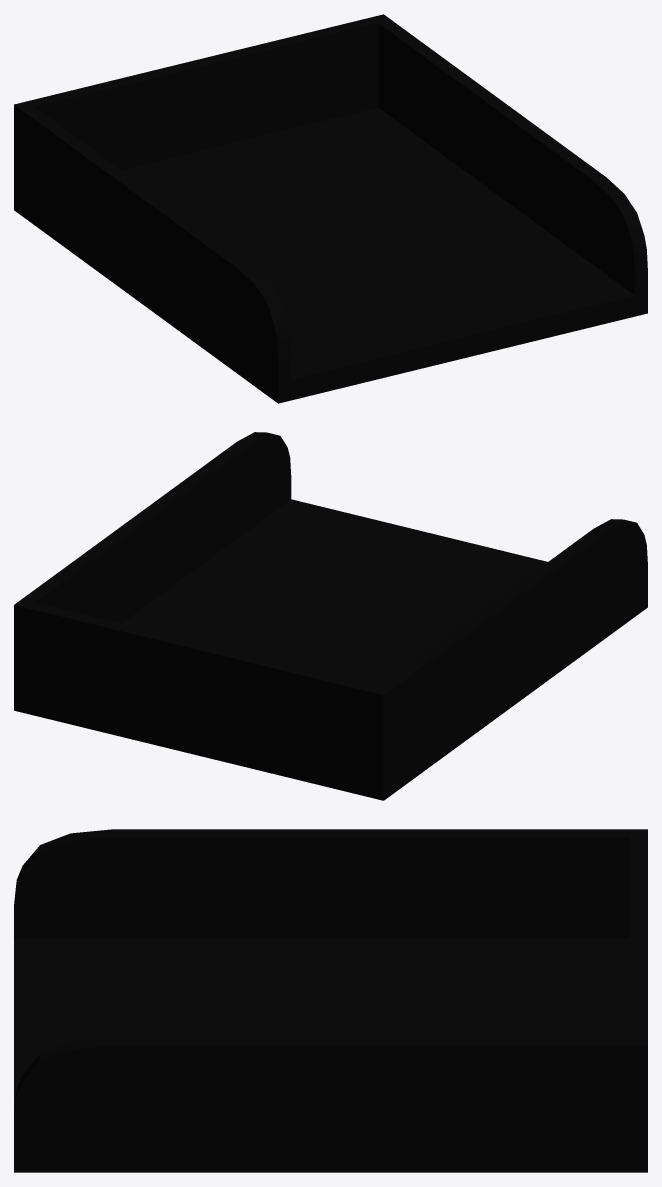
The model's file is Paper Tray_lod1.fbx.
3 views of the same model, one above another, from view 1: azimuth 30°, elevation 25°; view 2: azimuth 150°, elevation 25°; view 3: azimuth 270°, elevation 25° (orthographic). The views are drawn at different scales.
Parts seen in each view (by area): view 1: Paper_Tray; view 2: Paper_Tray; view 3: Paper_Tray.
Boxes of the visible parts, x1,y1,x2,y2 form: Paper_Tray: (14, 14, 647, 403); Paper_Tray: (14, 432, 647, 800); Paper_Tray: (14, 829, 647, 1172).
Bounding box in the file's own units: 1.83 × 0.5 × 2.27.
